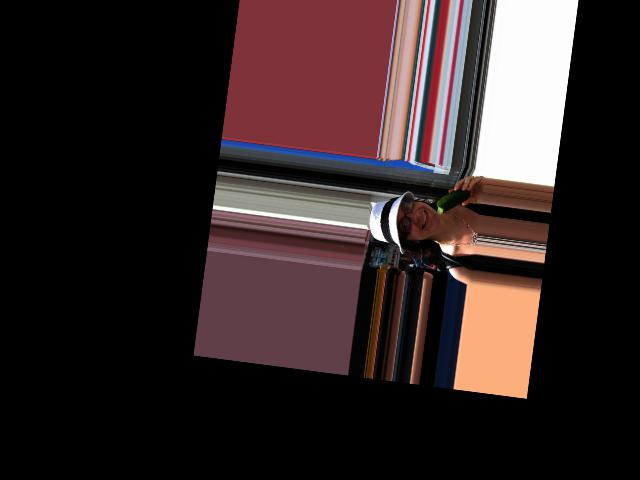cucumber: (435, 185, 471, 217)
